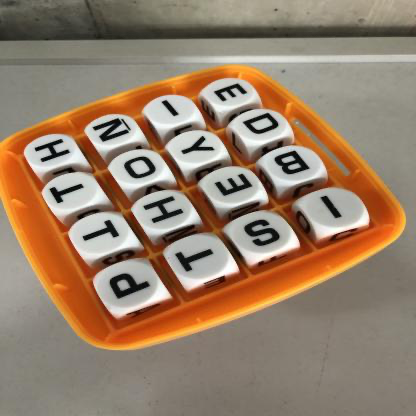b: (265, 145, 323, 183)
d: (234, 111, 287, 143)
e: (207, 167, 260, 204), (206, 80, 253, 110)
h: (135, 190, 193, 233), (30, 136, 76, 168)
i: (305, 189, 364, 229), (149, 96, 195, 126)
n: (91, 115, 138, 147)
o: (111, 152, 165, 188)
p: (95, 261, 160, 309)
s: (231, 211, 293, 254)
t: (69, 213, 130, 256), (172, 235, 231, 279), (45, 173, 98, 210)
y: (172, 130, 223, 165)
